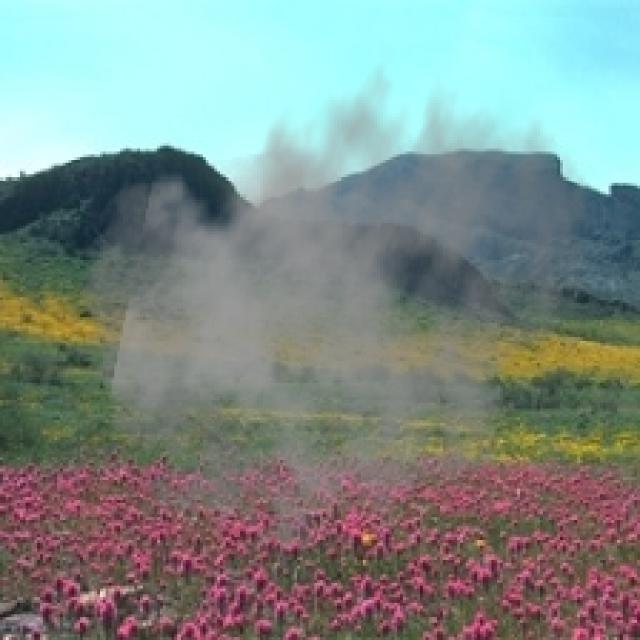Smoke: (72, 42, 598, 574)
